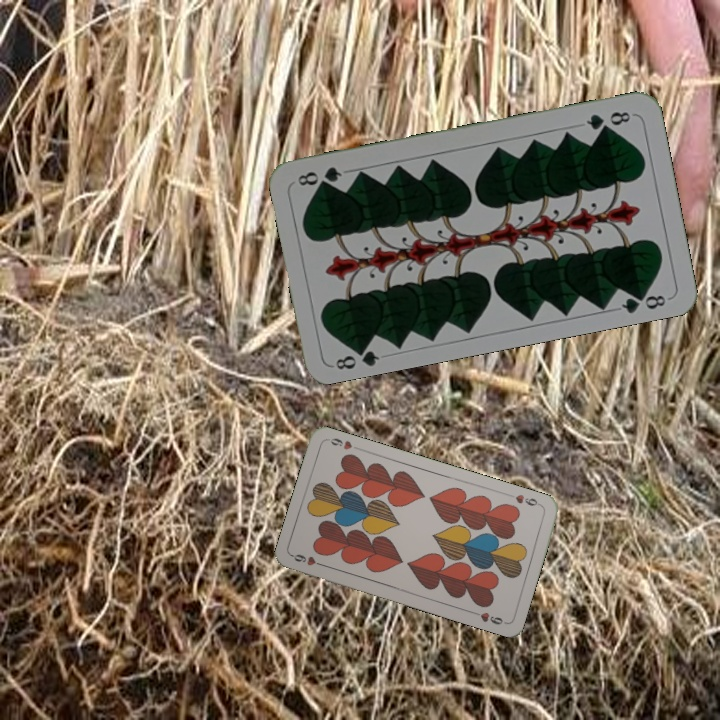G8: (331, 340, 382, 373), (582, 107, 633, 133)
H9: (505, 490, 544, 509), (289, 550, 328, 569)
